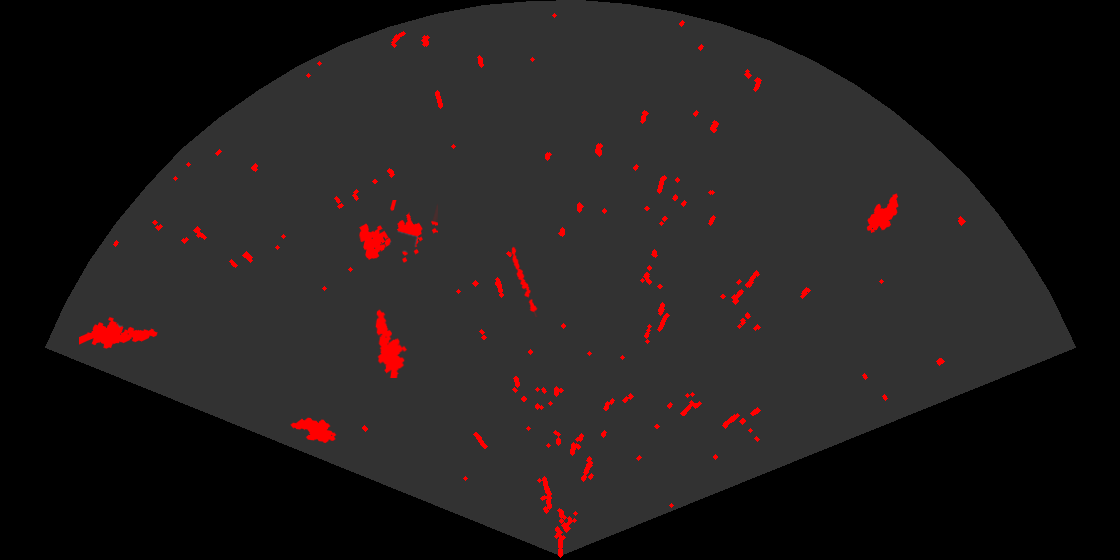AUV: (865, 192, 900, 235), (289, 416, 338, 445)
cage: (357, 200, 438, 264)
chain: (510, 245, 539, 317)
frogman: (79, 316, 159, 350), (374, 308, 409, 378)
